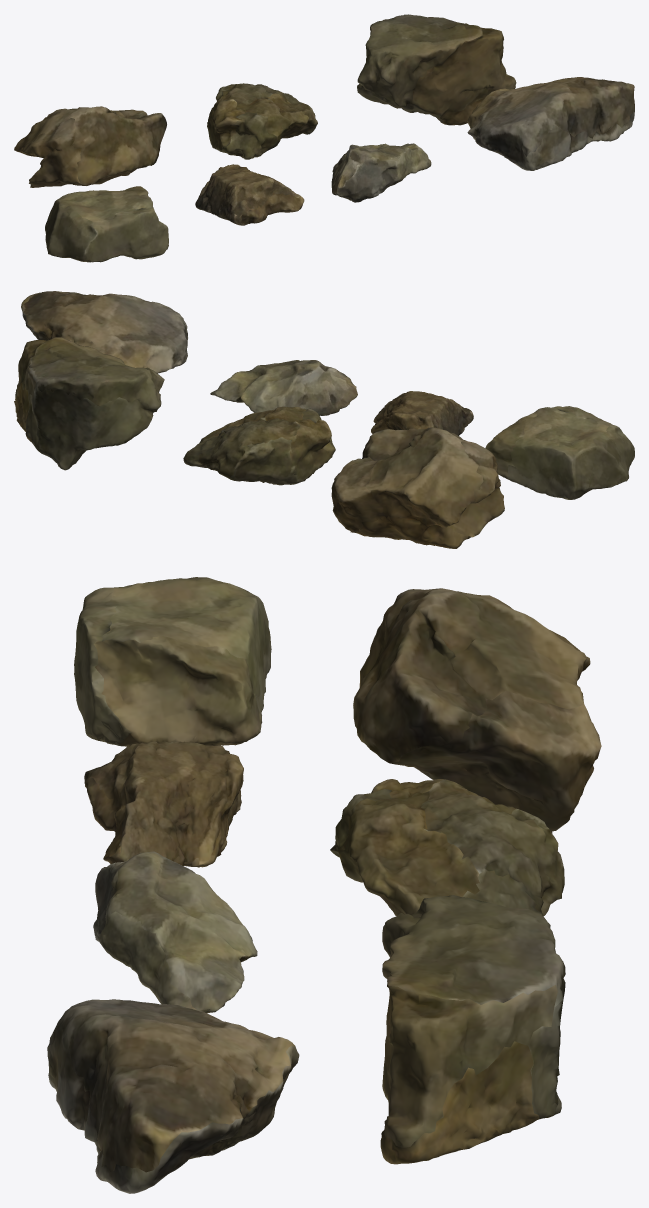
Rendered from rock_moss_set_02.gltf.
The picture shows the model from 3 angles, top to bottom: view 1: azimuth 30°, elevation 25°; view 2: azimuth 150°, elevation 25°; view 3: azimuth 270°, elevation 25°; orthographic projection. The views are drawn at different scales.
Visible parts, largest first — view 1: rock_moss_set_02_rock13, rock_moss_set_02_rock10, rock_moss_set_02_rock11, rock_moss_set_02_rock07, rock_moss_set_02_rock12, rock_moss_set_02_rock08, rock_moss_set_02_rock09; view 2: rock_moss_set_02_rock11, rock_moss_set_02_rock13, rock_moss_set_02_rock07, rock_moss_set_02_rock10, rock_moss_set_02_rock12, rock_moss_set_02_rock09, rock_moss_set_02_rock08; view 3: rock_moss_set_02_rock13, rock_moss_set_02_rock11, rock_moss_set_02_rock10, rock_moss_set_02_rock07, rock_moss_set_02_rock12, rock_moss_set_02_rock09, rock_moss_set_02_rock08.
Boxes of the visible parts, x1,y1,x2,y2 form: rock_moss_set_02_rock13: (357, 14, 516, 125); rock_moss_set_02_rock10: (467, 77, 634, 170); rock_moss_set_02_rock11: (14, 106, 166, 187); rock_moss_set_02_rock07: (45, 186, 168, 262); rock_moss_set_02_rock12: (207, 83, 317, 159); rock_moss_set_02_rock08: (195, 164, 304, 225); rock_moss_set_02_rock09: (331, 143, 431, 202); rock_moss_set_02_rock11: (331, 427, 504, 548); rock_moss_set_02_rock13: (14, 337, 164, 470); rock_moss_set_02_rock07: (485, 406, 634, 499); rock_moss_set_02_rock10: (21, 291, 187, 373); rock_moss_set_02_rock12: (183, 406, 335, 485); rock_moss_set_02_rock09: (210, 360, 357, 415); rock_moss_set_02_rock08: (371, 391, 473, 435); rock_moss_set_02_rock13: (380, 895, 565, 1164); rock_moss_set_02_rock11: (353, 588, 601, 833); rock_moss_set_02_rock10: (47, 999, 299, 1193); rock_moss_set_02_rock07: (74, 577, 271, 746); rock_moss_set_02_rock12: (330, 779, 564, 927); rock_moss_set_02_rock09: (93, 851, 257, 1013); rock_moss_set_02_rock08: (84, 741, 243, 867).
Bounding box in the file's own units: 8.28 × 1.37 × 3.41.
Materials: 1 (1 with a texture image).
